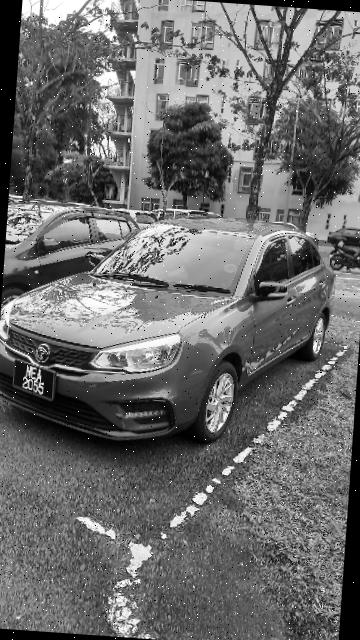License_Plate: (14, 361, 59, 403)
car: (1, 203, 344, 453), (2, 195, 145, 330)
